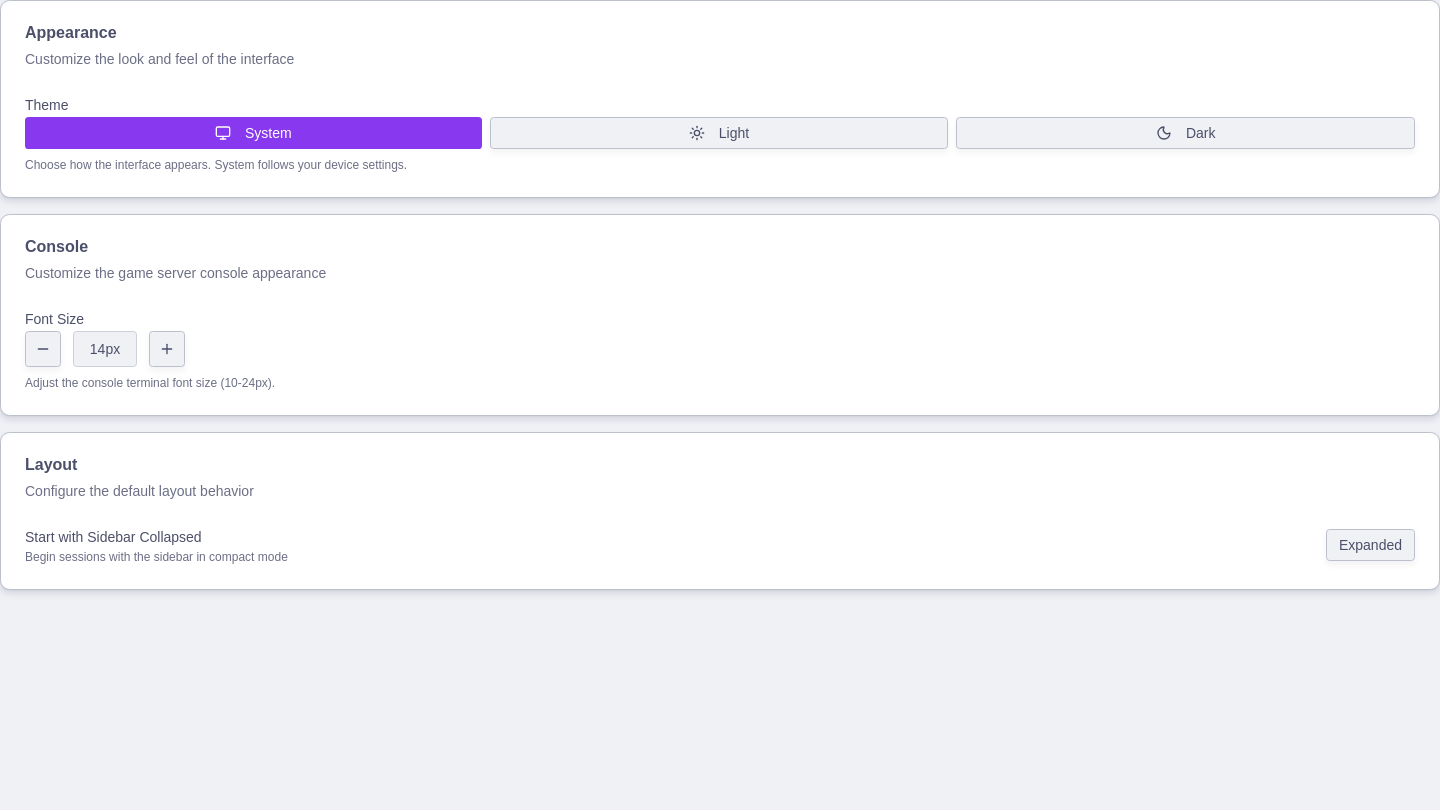
Scenario: UIPreferencesPanel › font size controls › increases font size when clicking plus button
Step 1. Click the button with test id "font-size-increase" → coordinates (167, 349), box [149,331,185,367]
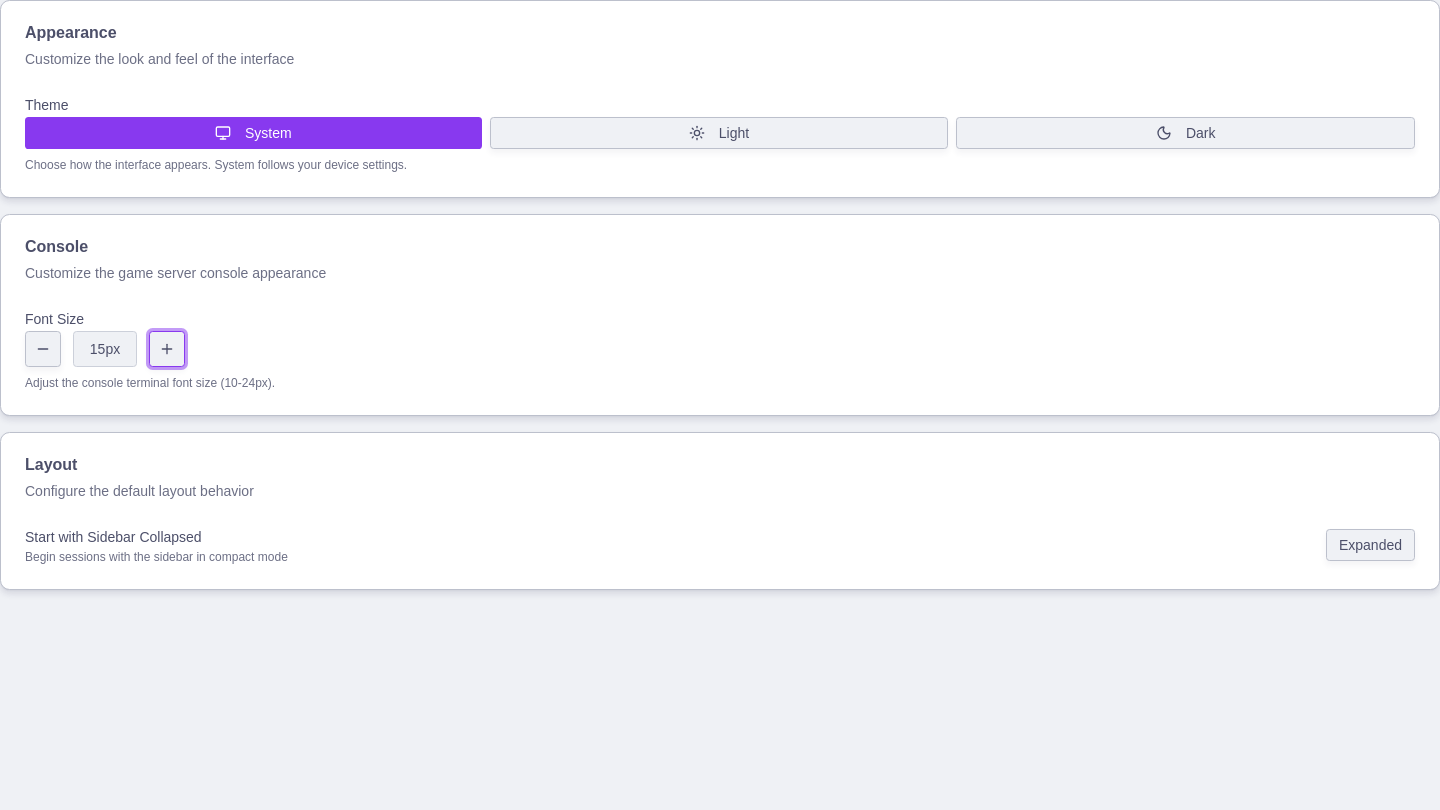
Now the text with test id "font-size-value" reads "15px", box [73,331,137,367]
